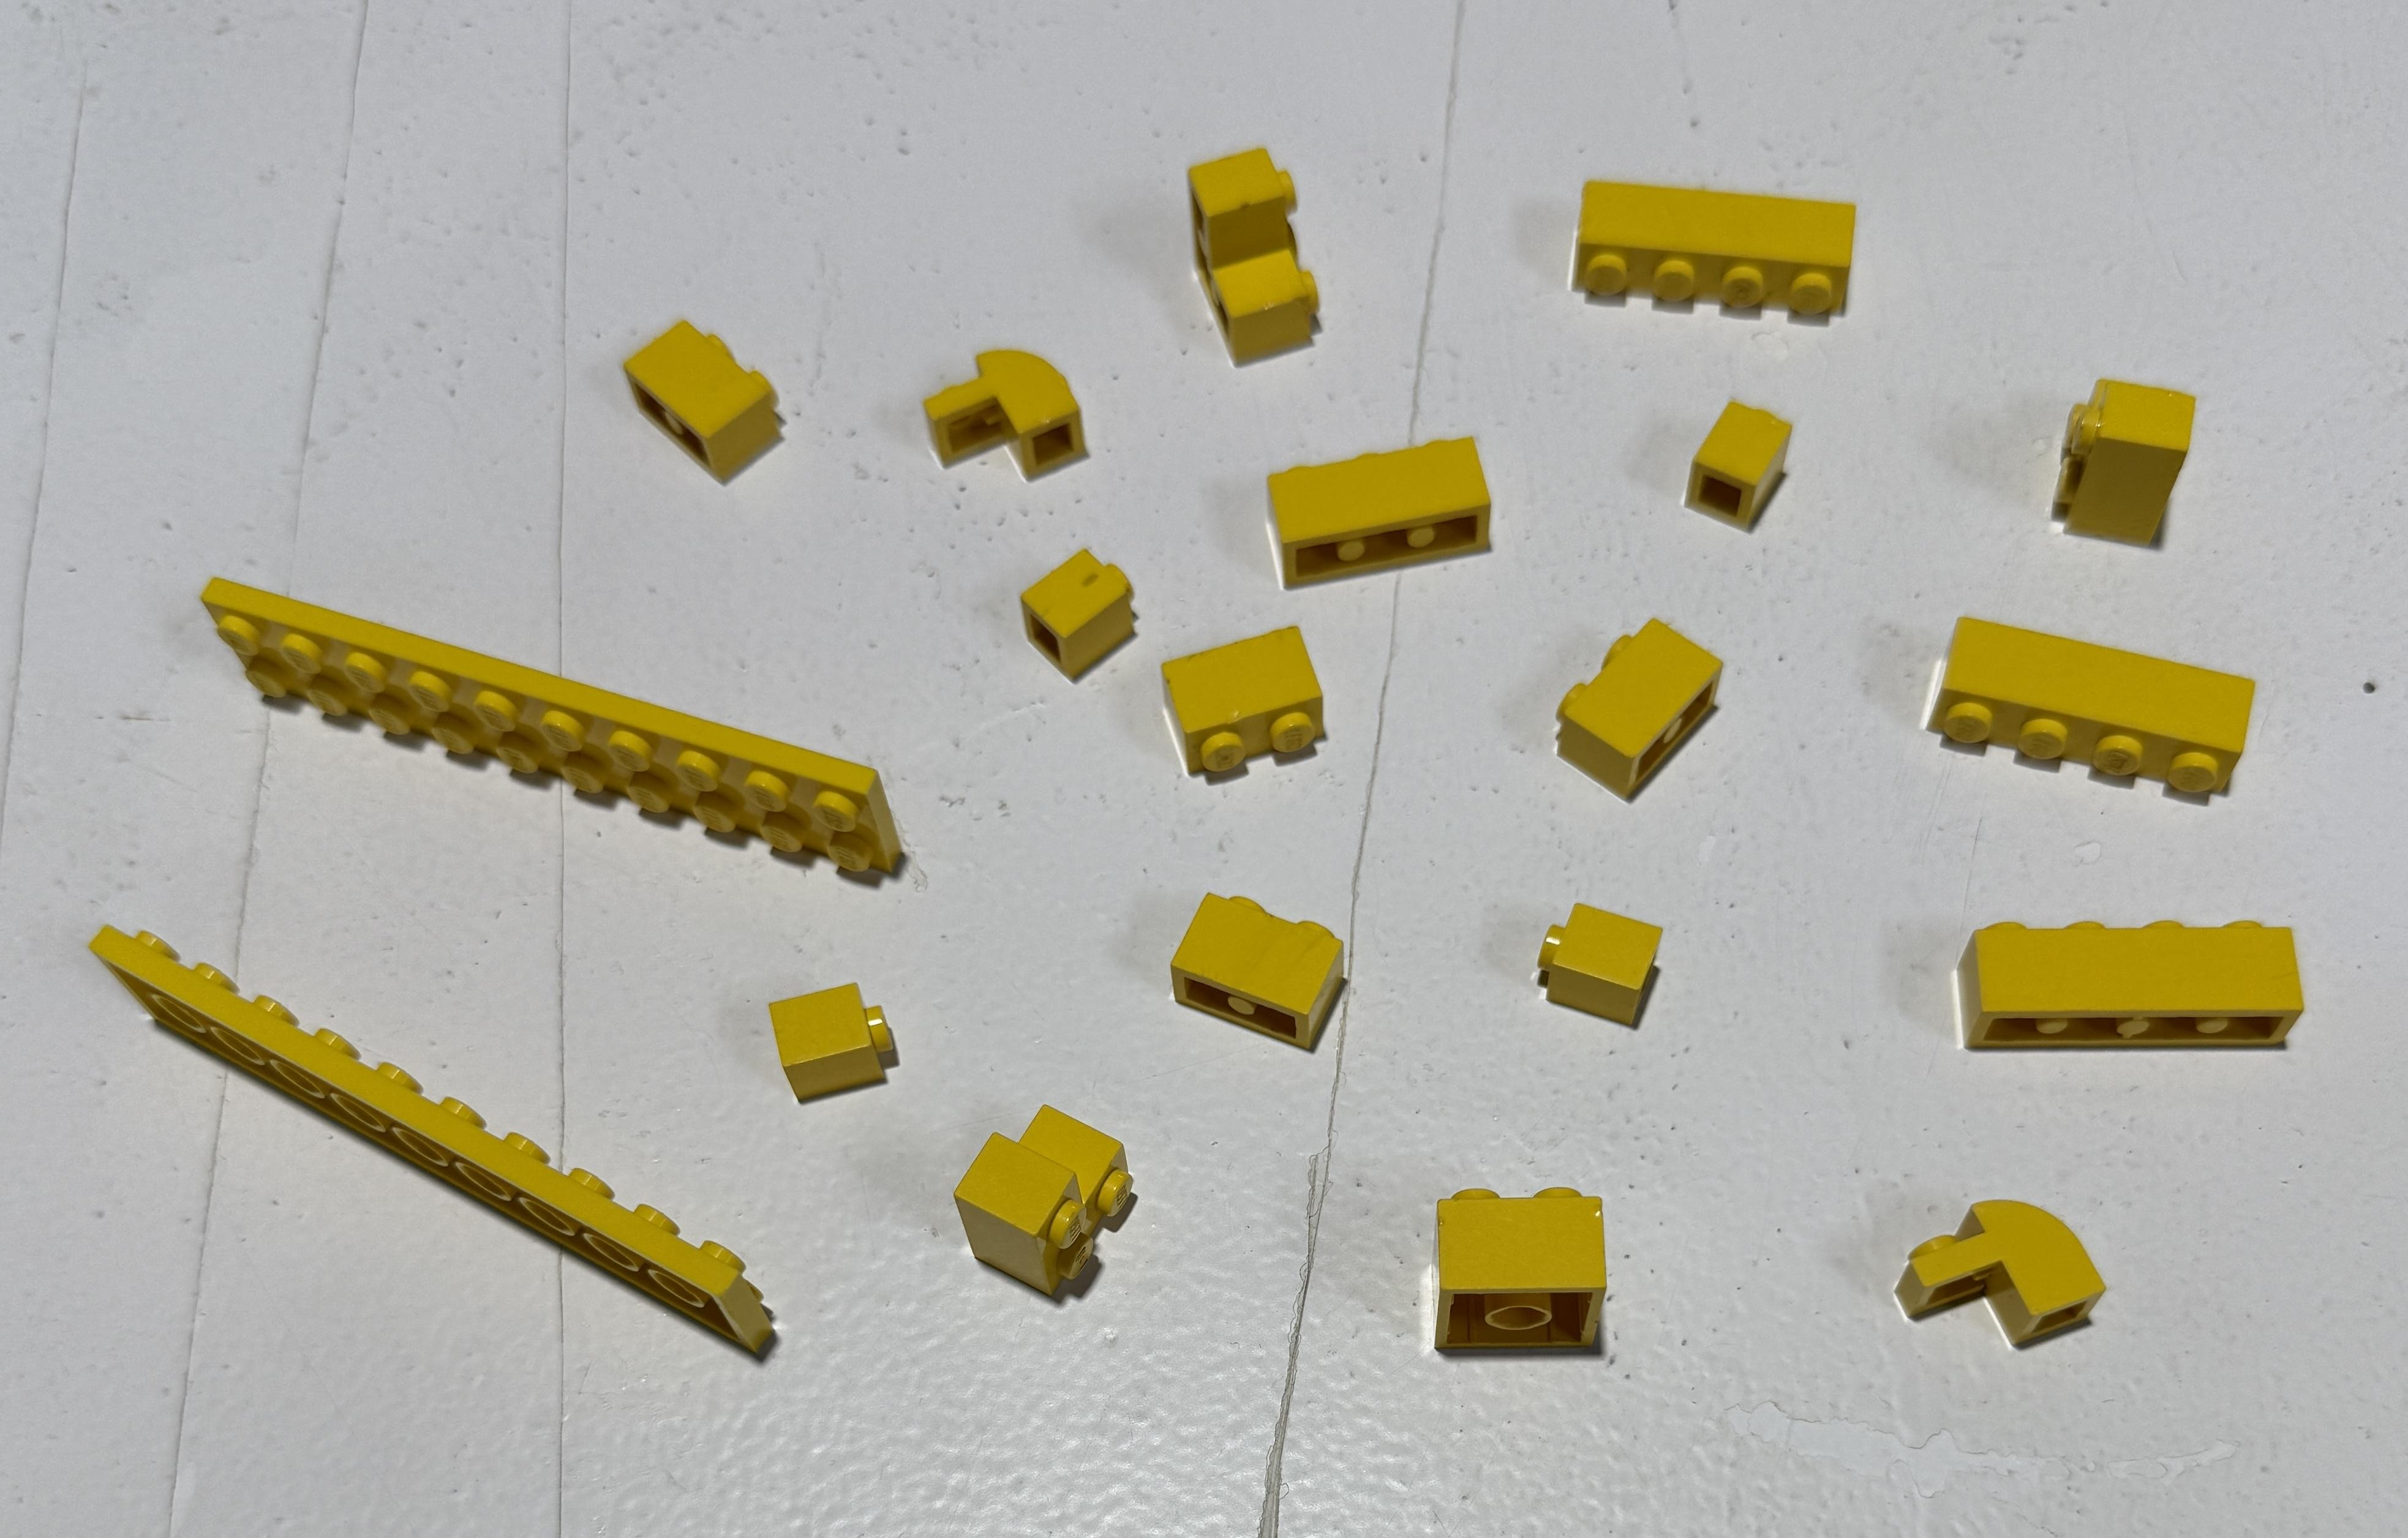brick_1x1: (979, 517, 1181, 700), (1513, 838, 1685, 1038), (762, 965, 916, 1126), (1680, 379, 1806, 549)
brick_1x2: (1129, 866, 1367, 1070), (1522, 596, 1736, 814), (606, 291, 806, 519), (1141, 605, 1350, 791)
brick_1x4: (1897, 598, 2285, 833), (1950, 894, 2315, 1080), (1552, 160, 1876, 344)
brick_2x2: (1365, 1131, 1715, 1389)
